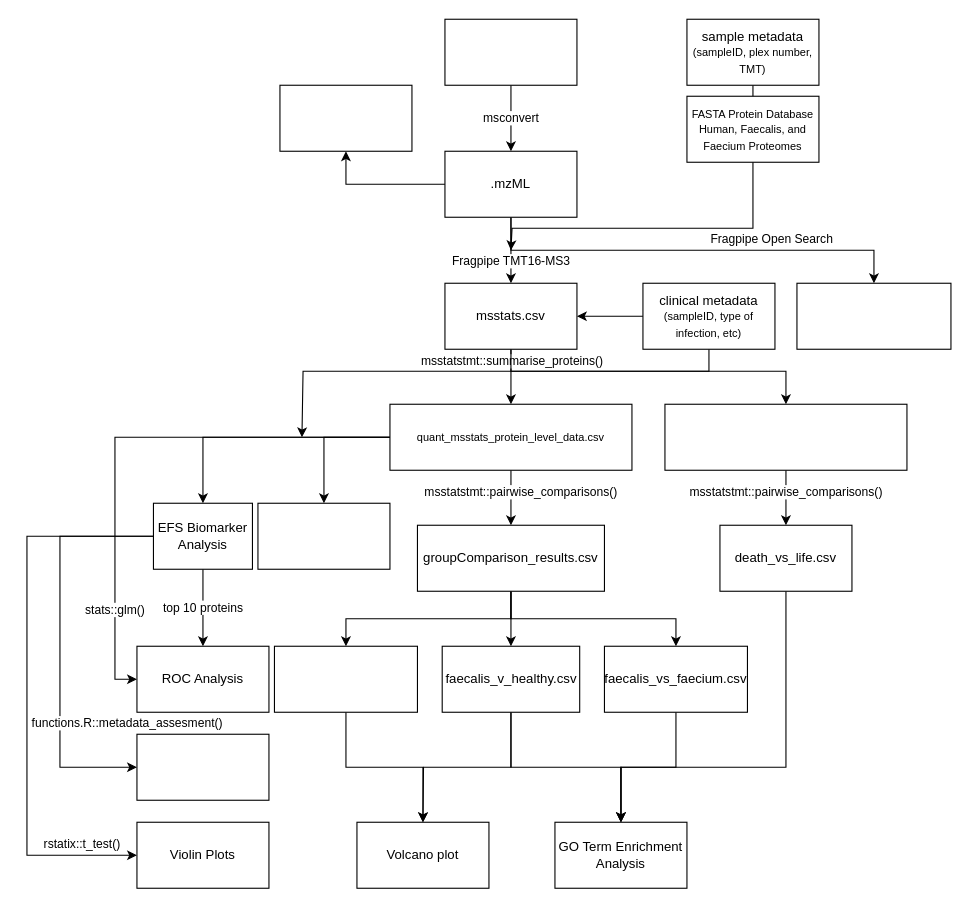
The diagram is 970 pixels wide and 908 high, and some of its shapes have lost their labels. The centre of each missing label's shape, as x and y in pixels:
.raw files: [510,51]
global.modsummary.tsv: [873,315]
healthy_v_faecium.csv: [345,678]
MASSIVE: [345,117]
Metadata Assesment: [202,766]
quant_msstats_protein_level_data_death.csv": [785,436]
Unsupervised Hierchical Clustering: [323,535]
